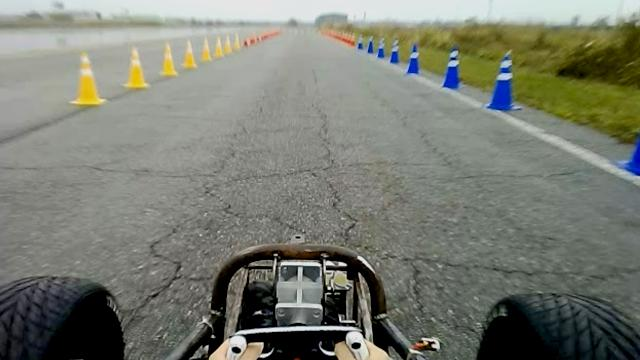blue cone: (486, 50, 523, 110), (441, 46, 463, 90), (406, 42, 420, 76), (390, 38, 400, 63), (376, 37, 386, 58), (367, 35, 374, 54), (357, 35, 364, 50)
yellow cone: (69, 52, 106, 106), (123, 45, 149, 89), (160, 42, 178, 76), (181, 39, 197, 69), (202, 36, 212, 62), (214, 36, 224, 58), (233, 32, 241, 51), (225, 34, 232, 55)
